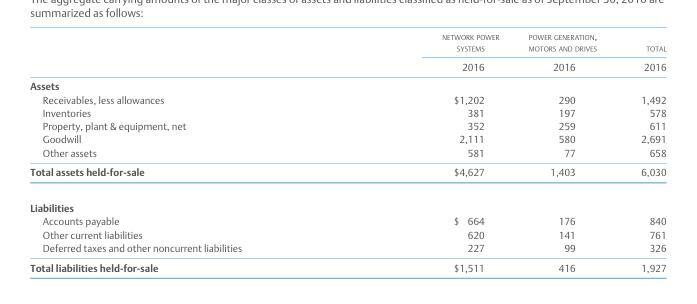table: (29, 29, 665, 272)
table column: (29, 29, 341, 272), (341, 29, 514, 272), (514, 29, 619, 272), (619, 29, 665, 272)
table column header: (29, 29, 665, 75)
table projected row header: (29, 189, 665, 214), (29, 75, 665, 92)
table row: (29, 29, 665, 75), (29, 161, 665, 189), (29, 189, 665, 214), (29, 75, 665, 92), (29, 240, 665, 257), (29, 145, 665, 161), (29, 257, 665, 272), (29, 118, 665, 132), (29, 92, 665, 105), (29, 105, 665, 118), (29, 132, 665, 145), (29, 214, 665, 227), (29, 227, 665, 240)
